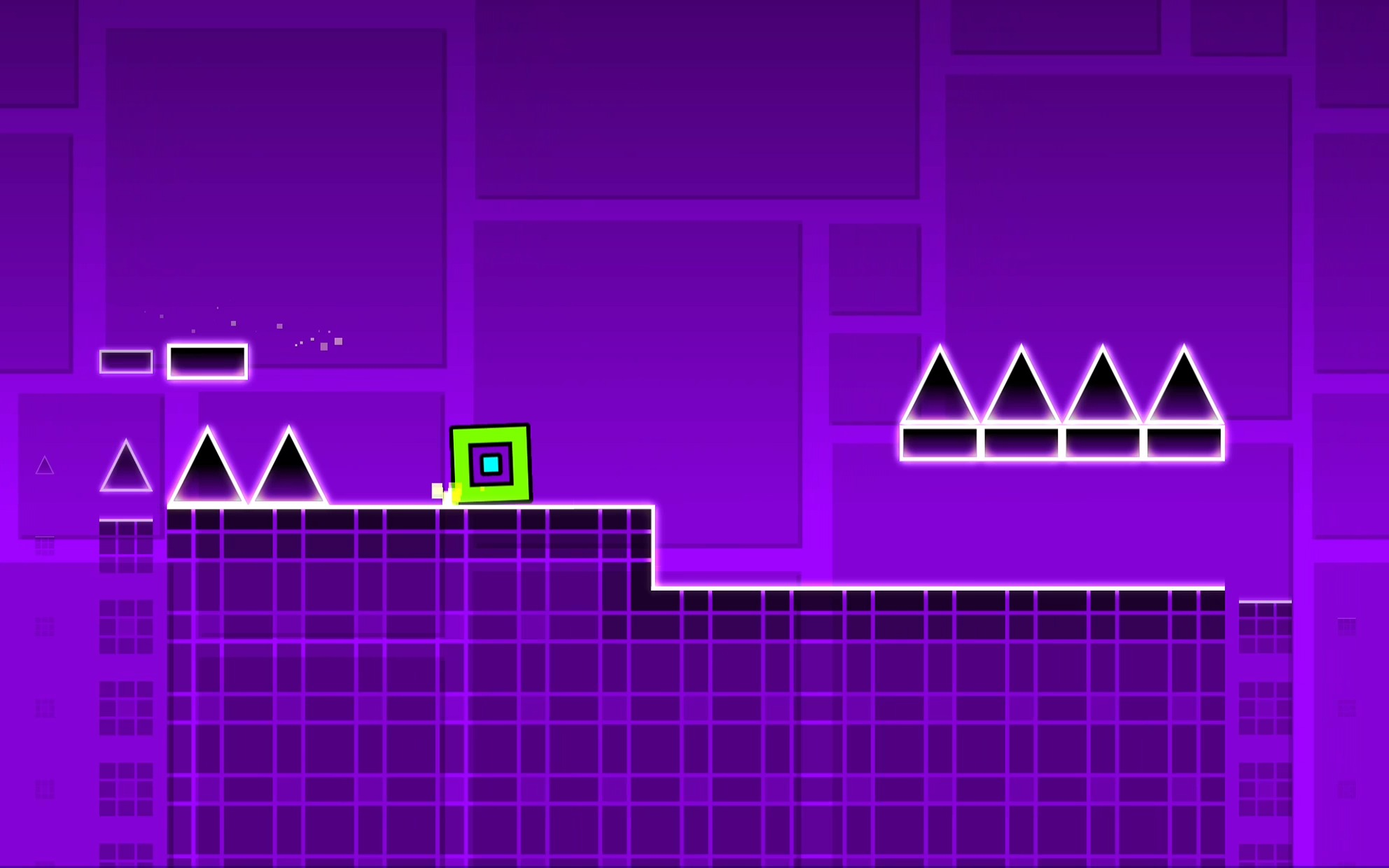Block2: (650, 590, 1297, 868), (170, 508, 651, 868)
Block3: (1059, 424, 1145, 462), (167, 342, 249, 380), (1148, 423, 1223, 462), (902, 422, 975, 462), (983, 430, 1061, 458), (99, 350, 151, 374)
Player: (448, 424, 531, 502)
Spike: (252, 426, 327, 502), (1147, 344, 1221, 421), (902, 345, 977, 420), (170, 426, 243, 503), (986, 345, 1059, 420), (1066, 346, 1138, 421), (102, 439, 152, 491)
